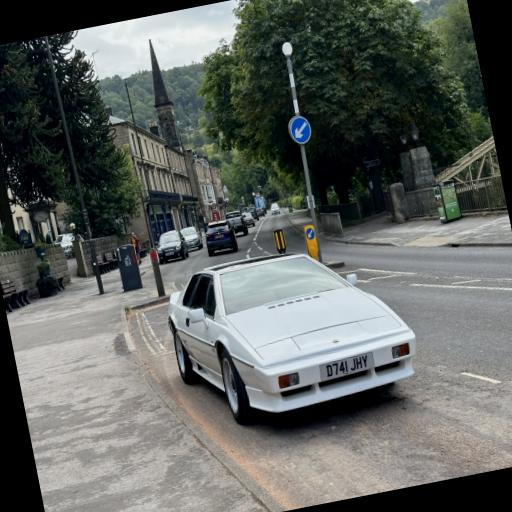numberplates: (320, 353, 373, 380), (216, 235, 223, 238), (168, 252, 173, 255)
